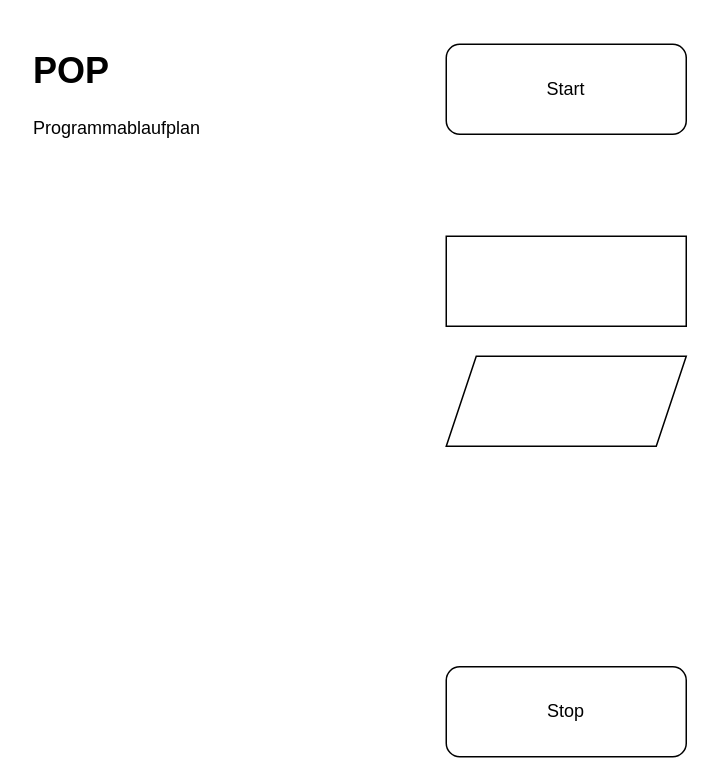
Image size: 713x783. Some labels were removed from this diagram. Here are the shapes that lost their labels. From the top down, the centre of each, then its label:
(565,280): firstName = "Max"
(565,400): Ausgabe firstName
